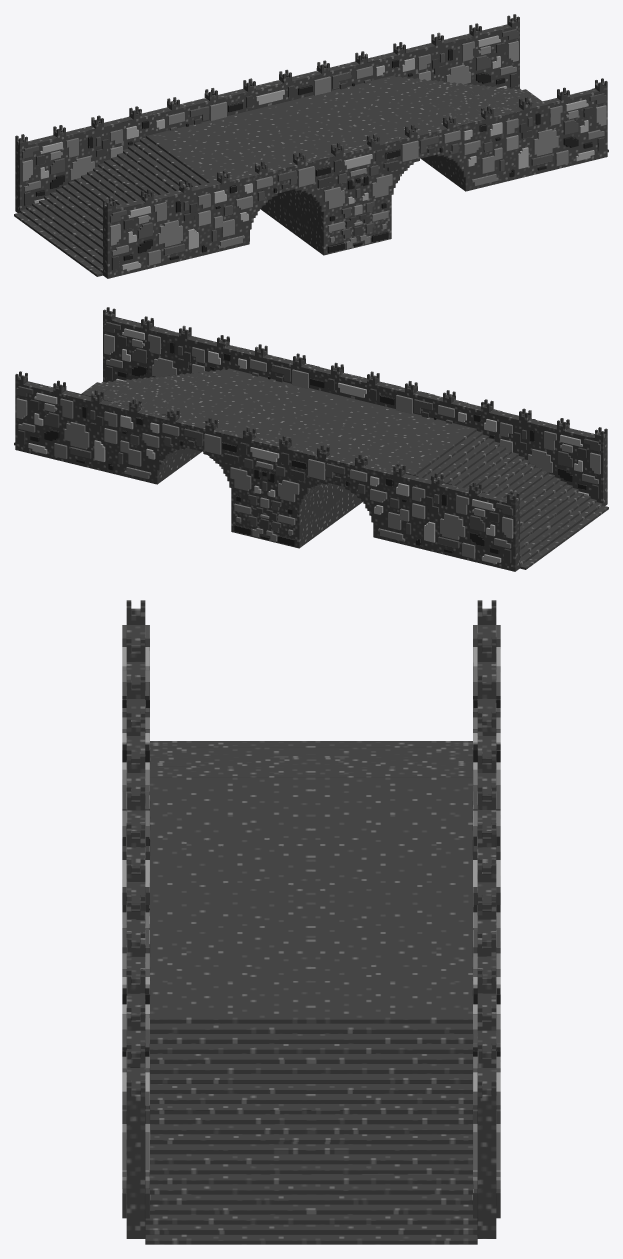
Rendered from Bridge.fbx.
The picture shows the model from 3 angles, top to bottom: view 1: azimuth 30°, elevation 25°; view 2: azimuth 150°, elevation 25°; view 3: azimuth 270°, elevation 25°; orthographic projection. The views are drawn at different scales.
Parts seen in each view (by area): view 1: Bridge; view 2: Bridge; view 3: Bridge.
Part boxes in pixels (box(x1,y1,x2,y2)): Bridge: box(14, 14, 608, 278); Bridge: box(14, 307, 608, 571); Bridge: box(122, 600, 500, 1244).
Bounding box in the file's own units: 2560 × 500 × 820.
Materials: 1 (1 with a texture image).
